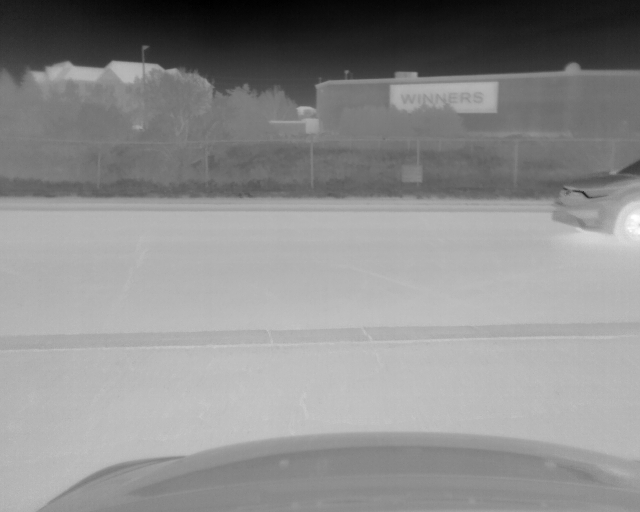car: (549, 156, 640, 241)
